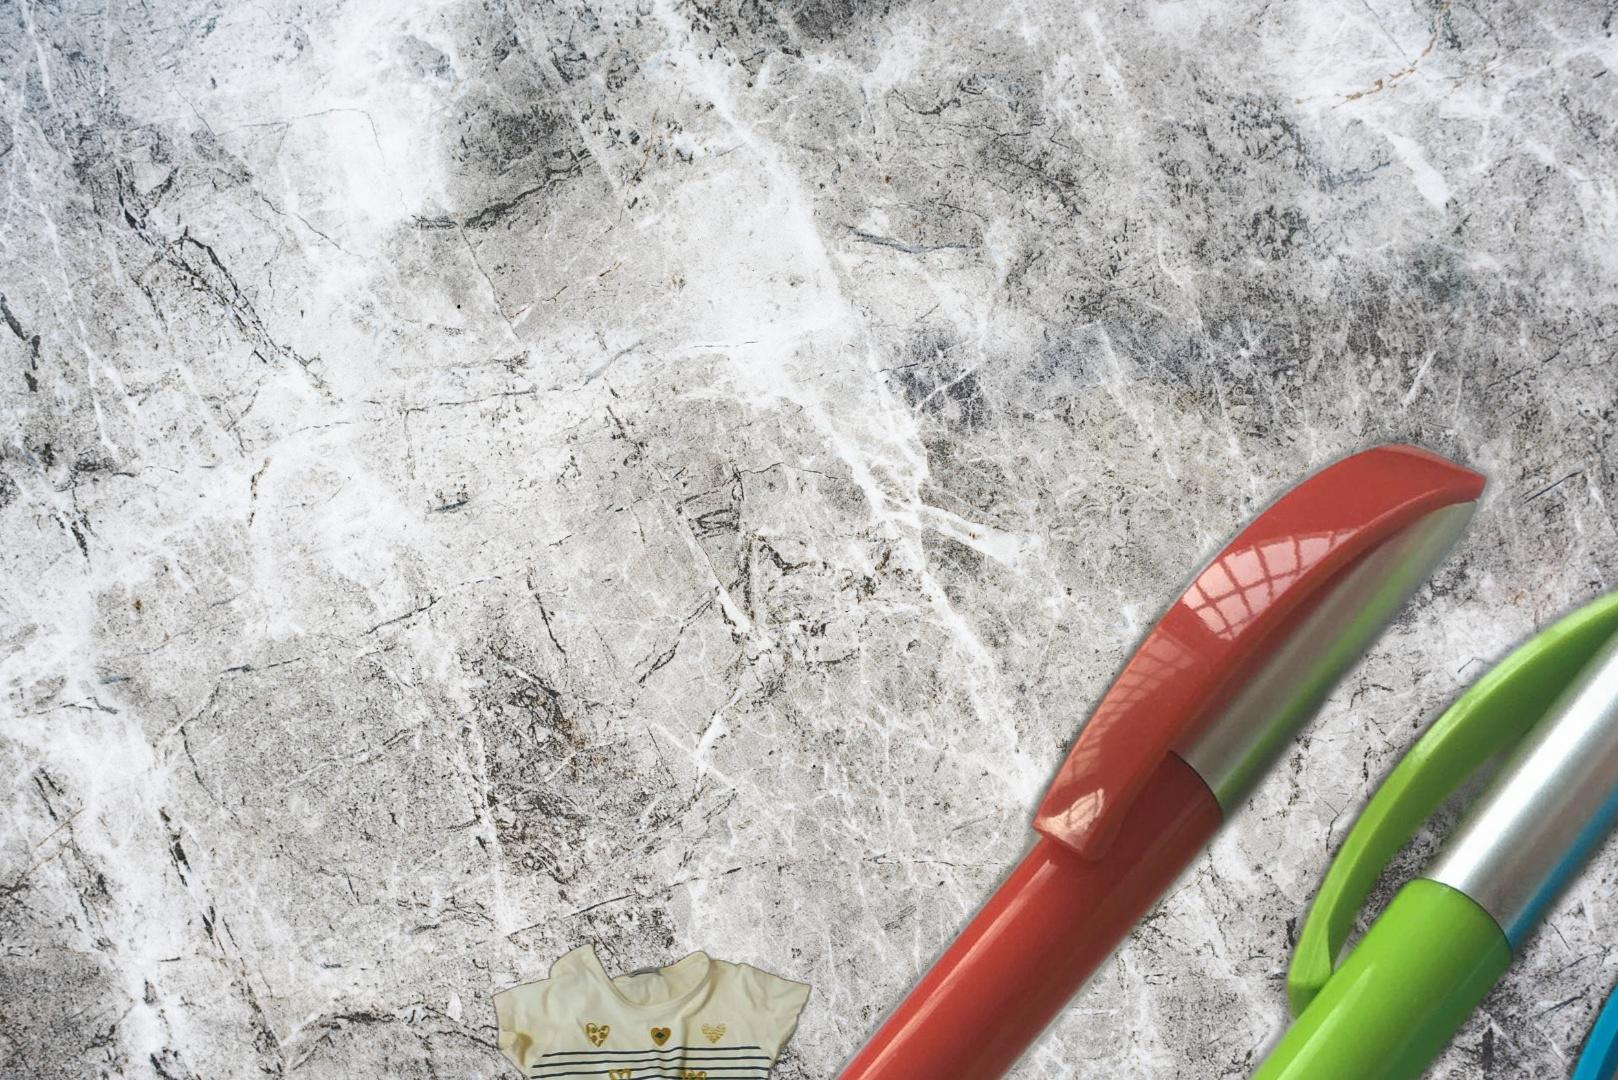clothes: (486, 940, 818, 1080)
penholder: (335, 424, 1618, 1080)
